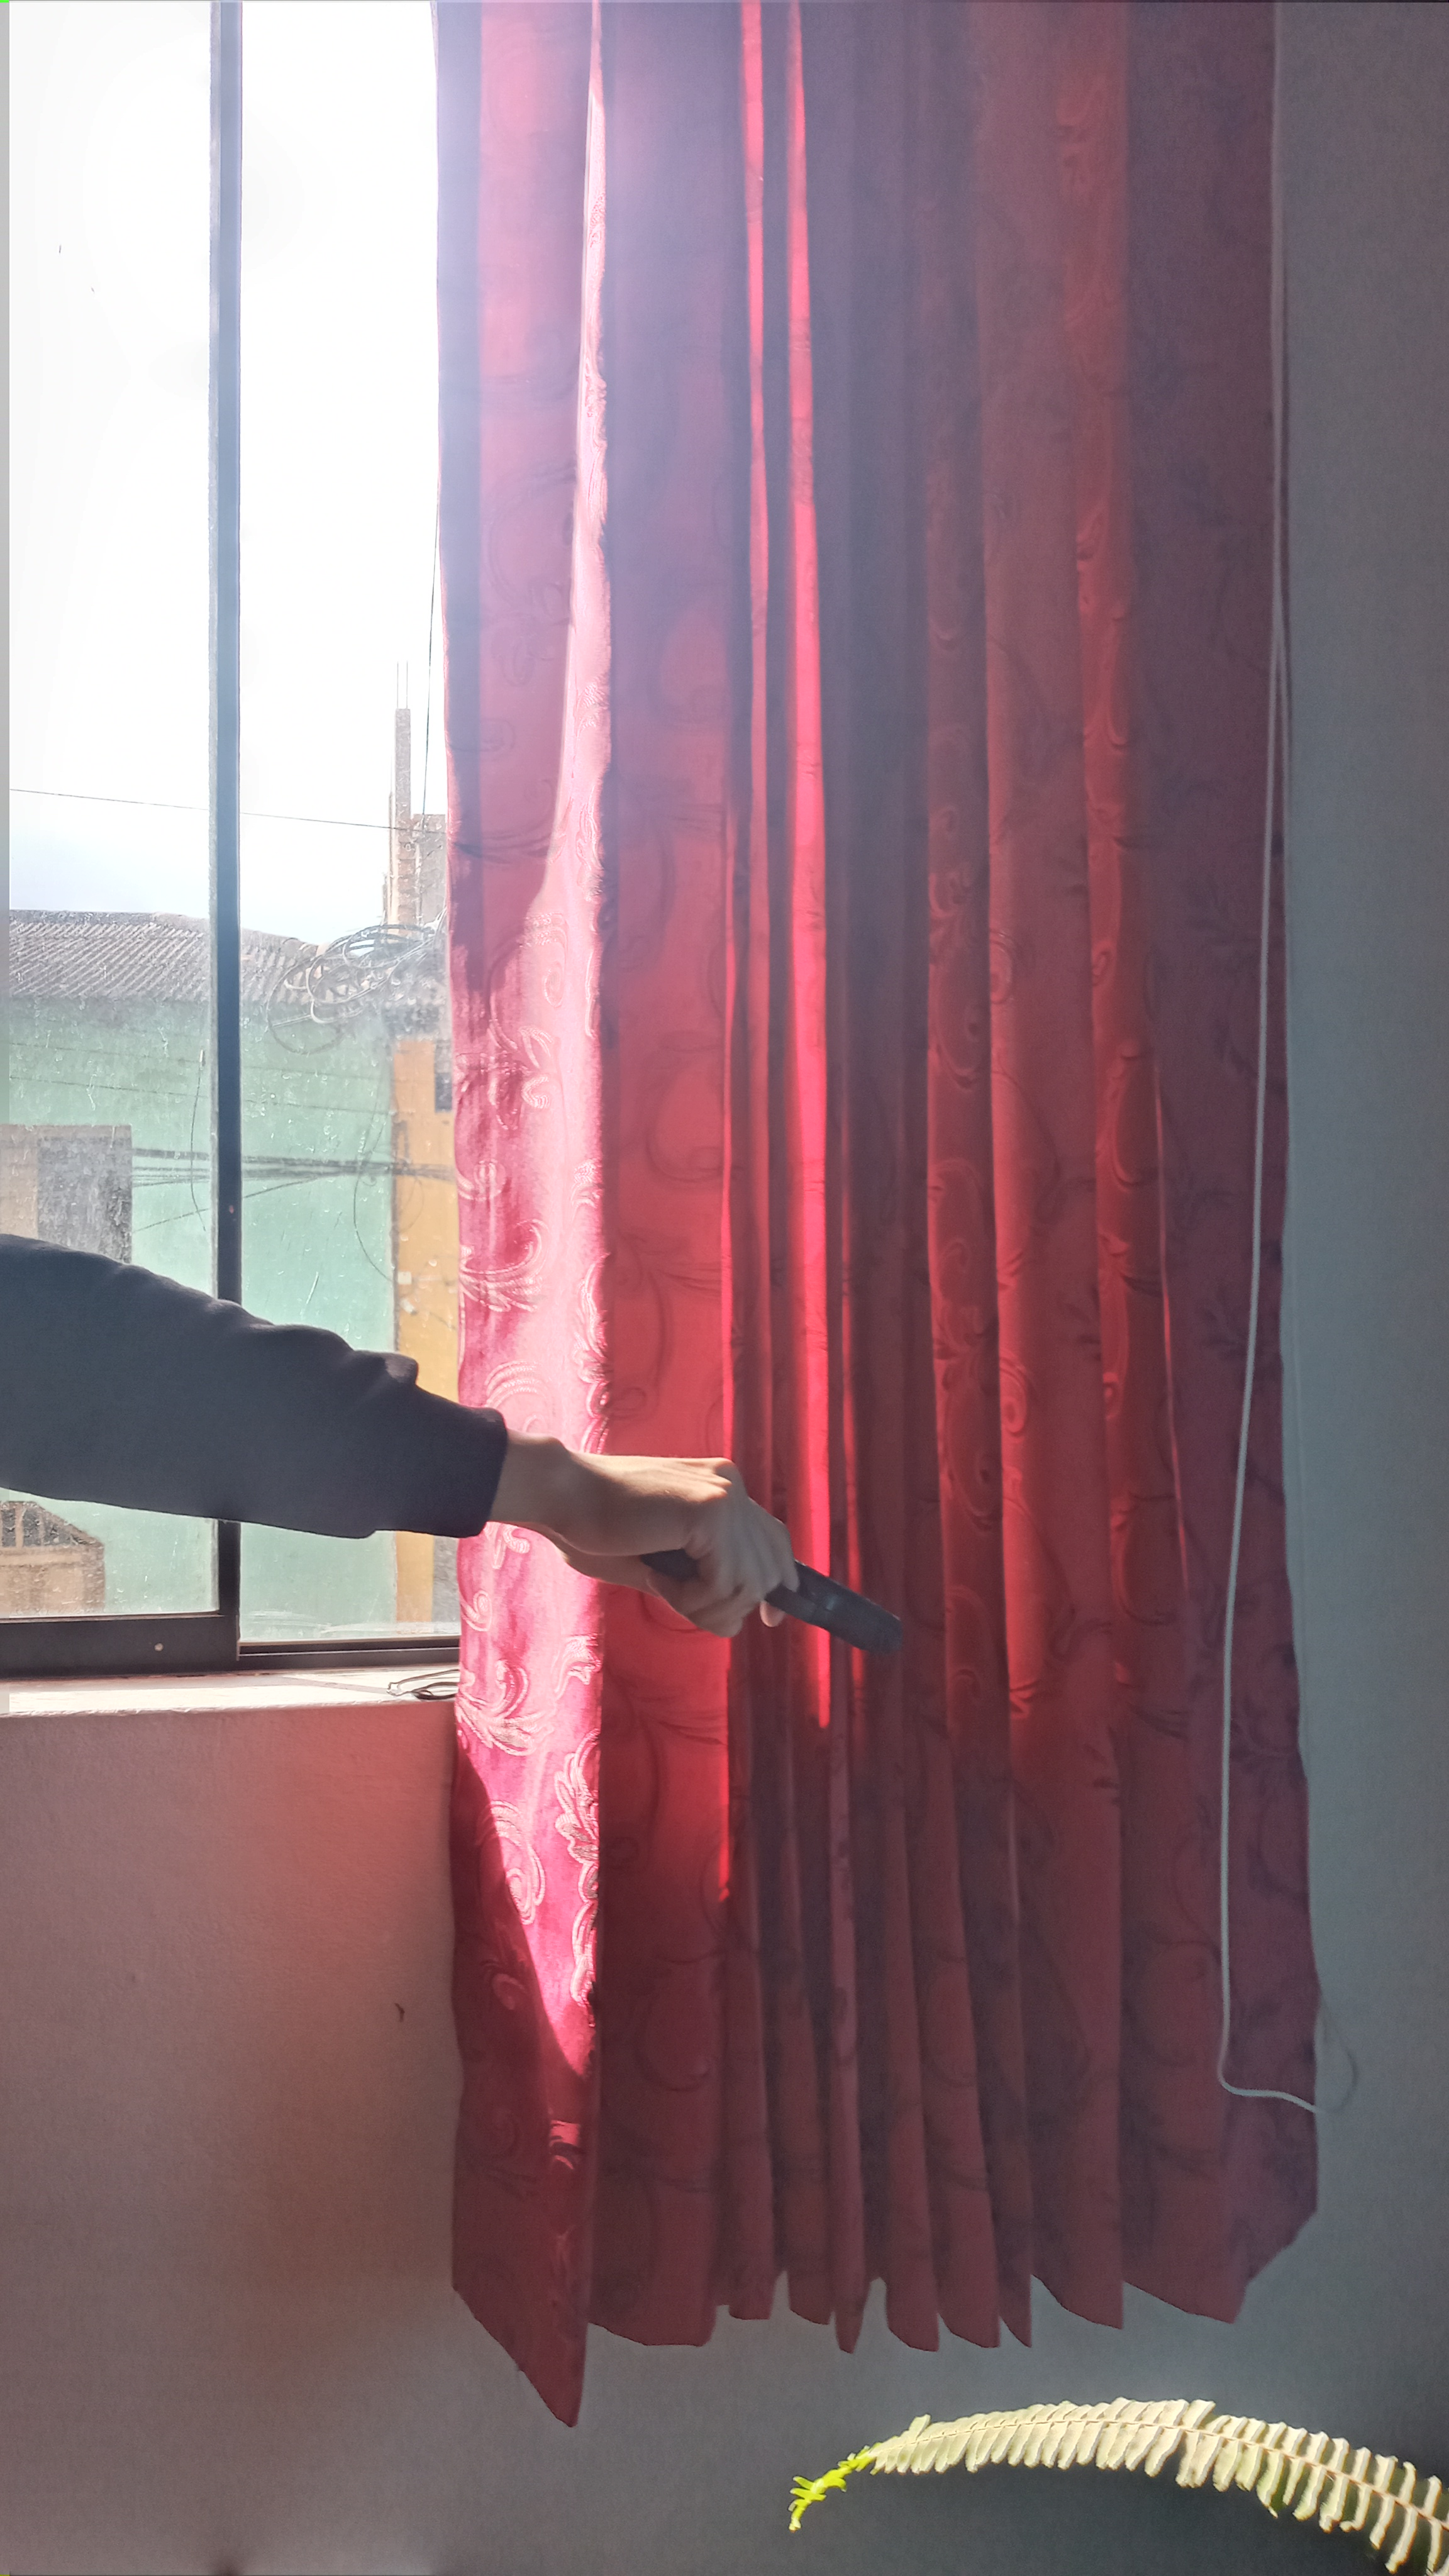Arma: (683, 1520, 911, 1661)
